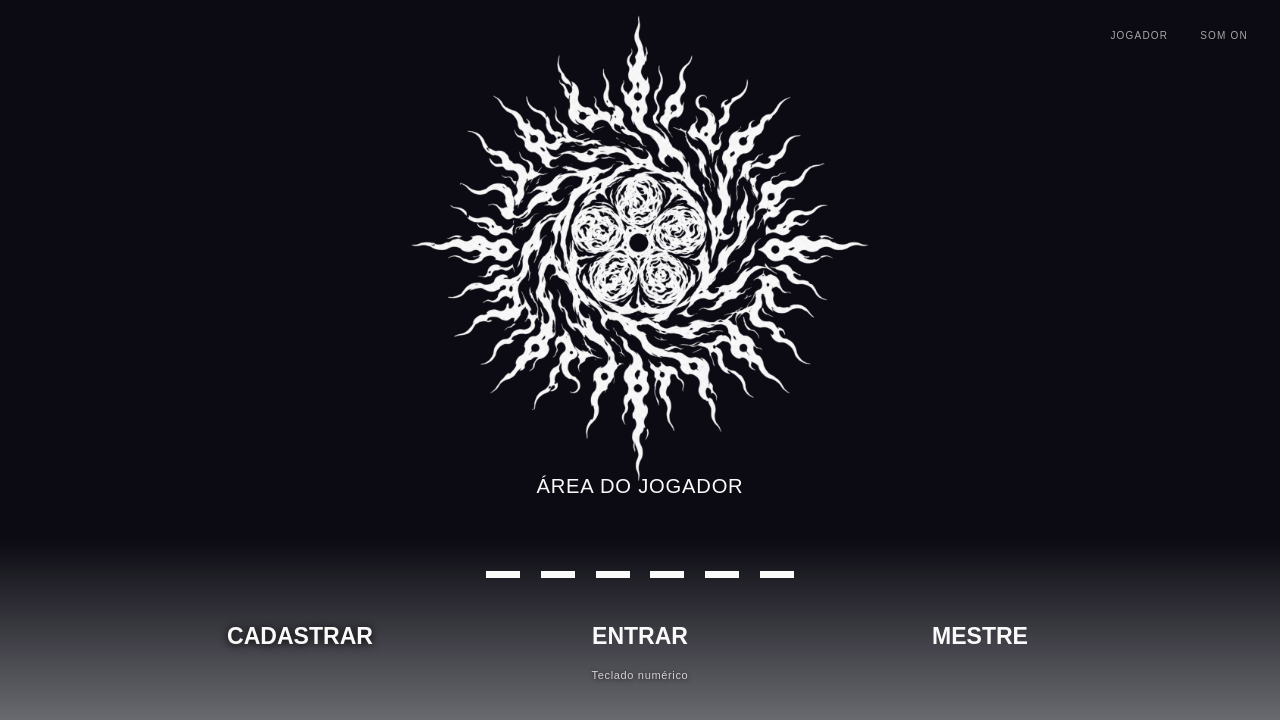
senha errada do mestre não autoriza nem exibe boas-vindas
The width and height of the screenshot is (1280, 720).
Click the button "MESTRE" at (980, 637), box [903,613,1057,661]
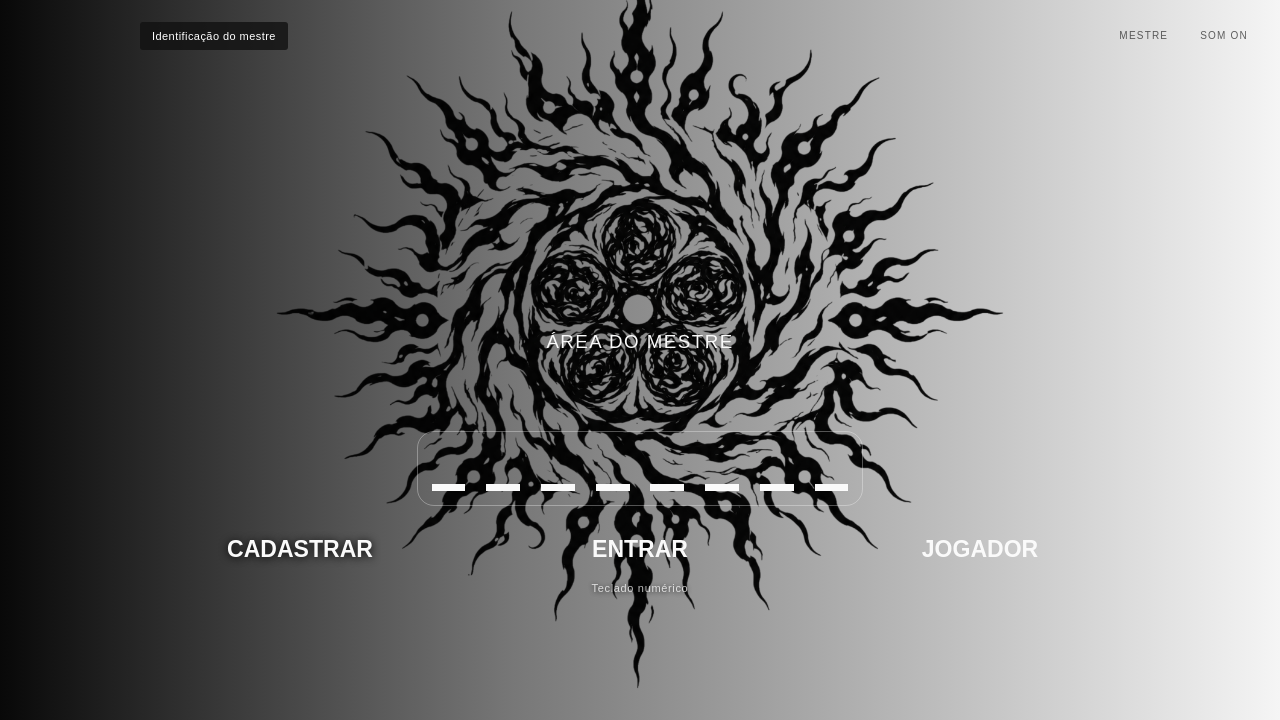
Type "00000000" into the password field named "Senha do mestre" at (640, 469), box [432,446,848,491]
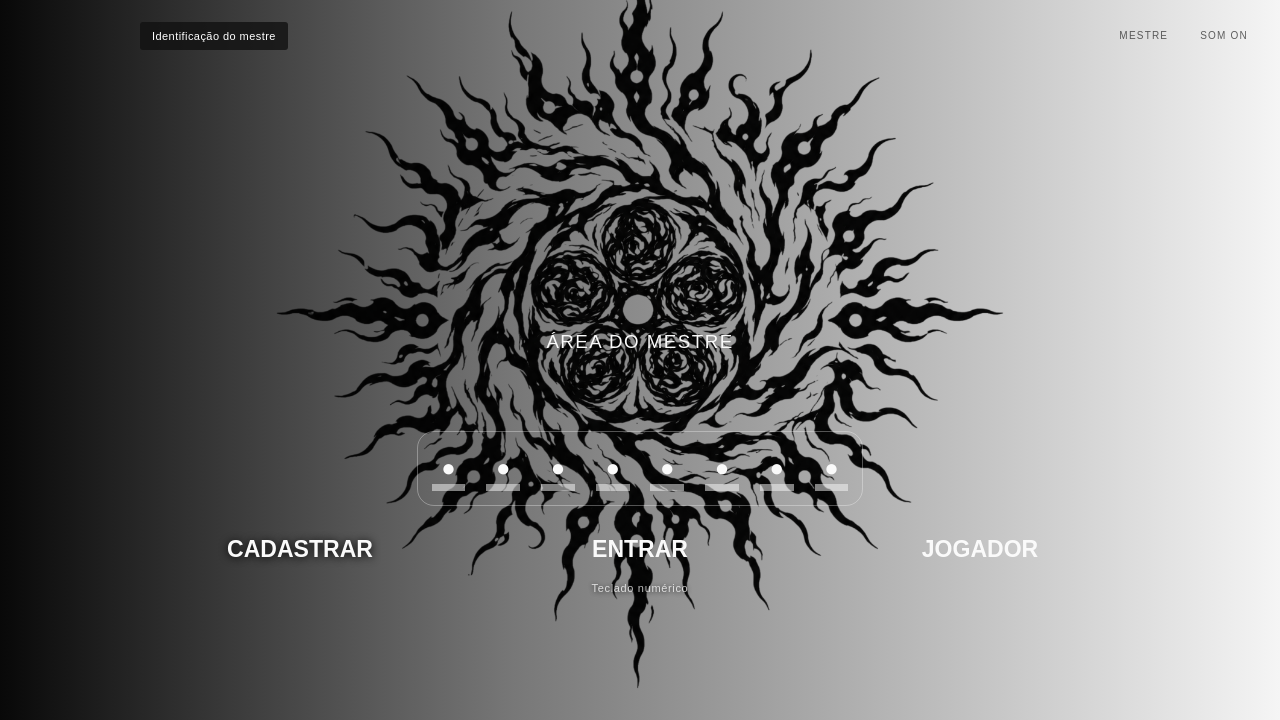
Click the button "ENTRAR" at (640, 550), box [563,526,717,574]
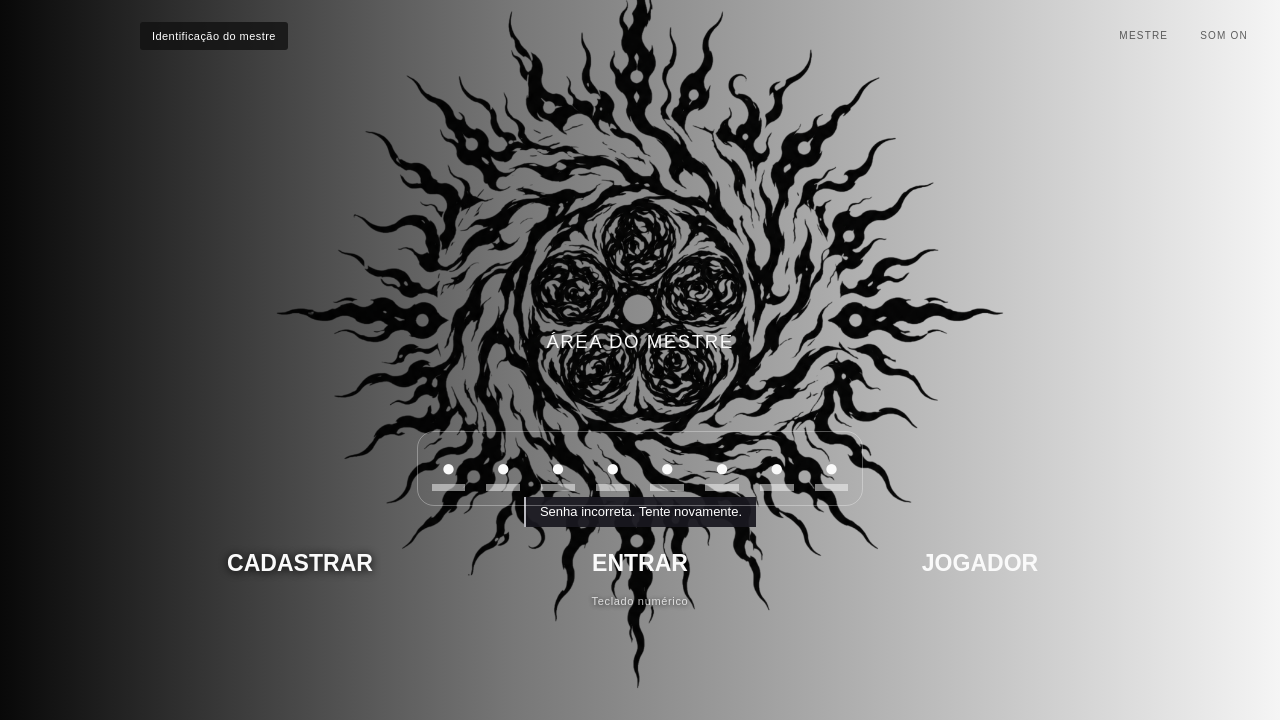
Now the message shows "Senha incorreta", box [540,504,742,519]
